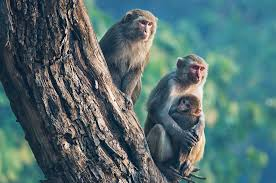monkey: (99, 6, 252, 176)
